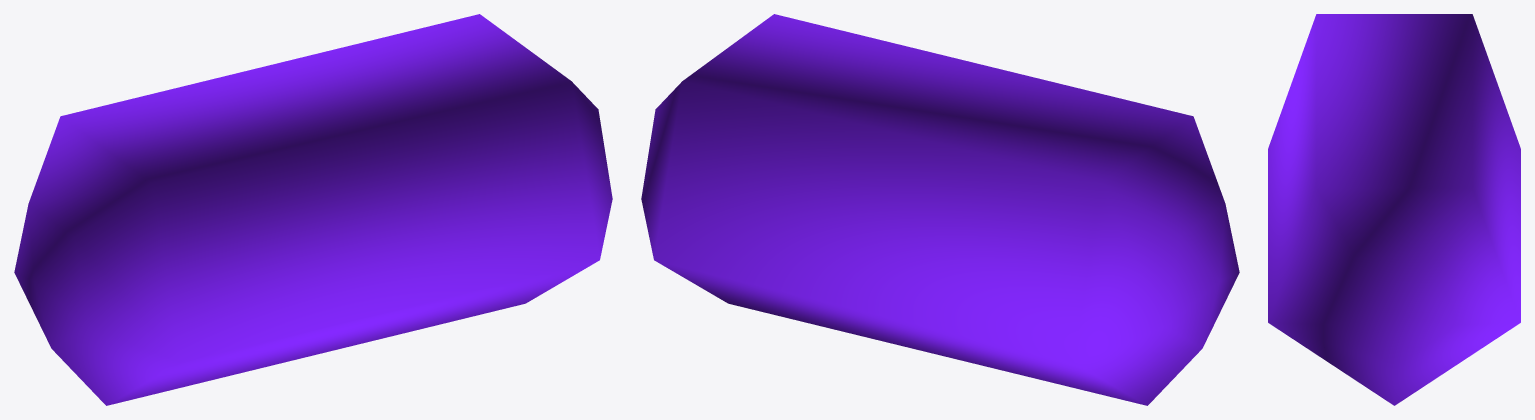
File: stunslug.glb
3 renders of one model, left to right at view 1: azimuth 30°, elevation 25°; view 2: azimuth 150°, elevation 25°; view 3: azimuth 270°, elevation 25°, orthographic. The views are drawn at different scales.
Parts seen in each view (by area): view 1: stunslug_0; view 2: stunslug_0; view 3: stunslug_0.
Boxes of the visible parts, x1,y1,x2,y2 form: stunslug_0: (14, 14, 612, 405); stunslug_0: (641, 14, 1239, 405); stunslug_0: (1268, 14, 1520, 405).
Bounding box in the file's own units: 8.11 × 3.55 × 3.73.
Materials: 1 (1 with a texture image).
